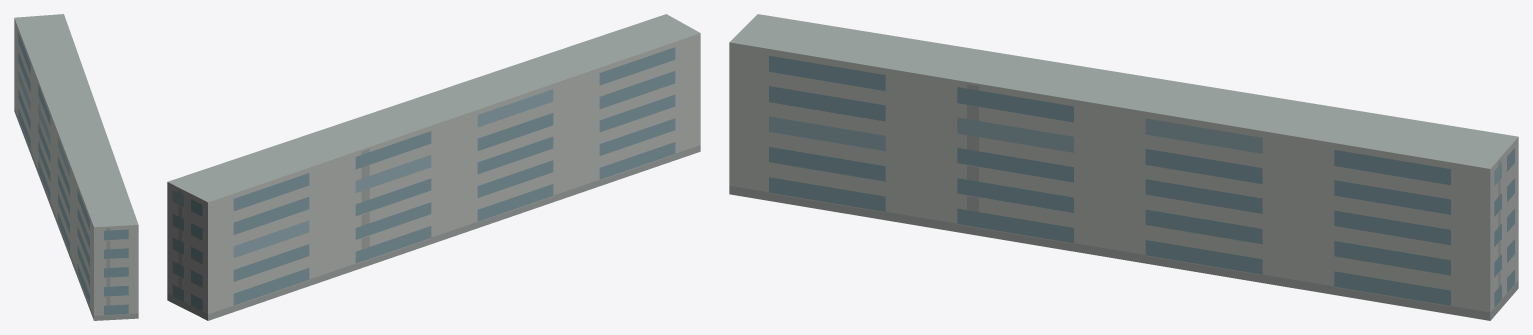
The model's file is survey-upis-32783798.glb.
3 views of the same model, side by side, from view 1: azimuth 30°, elevation 25°; view 2: azimuth 150°, elevation 25°; view 3: azimuth 270°, elevation 25° (orthographic). The views are drawn at different scales.
Visible parts, largest first — view 1: survey-upis-32783798.tmp; view 2: survey-upis-32783798.tmp; view 3: survey-upis-32783798.tmp.
Part boxes in pixels (left/top/right/bottom): survey-upis-32783798.tmp: left=14, top=14, right=138, bottom=320; survey-upis-32783798.tmp: left=167, top=14, right=700, bottom=320; survey-upis-32783798.tmp: left=729, top=14, right=1518, bottom=320.
Bounding box in the file's own units: 33.38 × 15.25 × 71.78.
